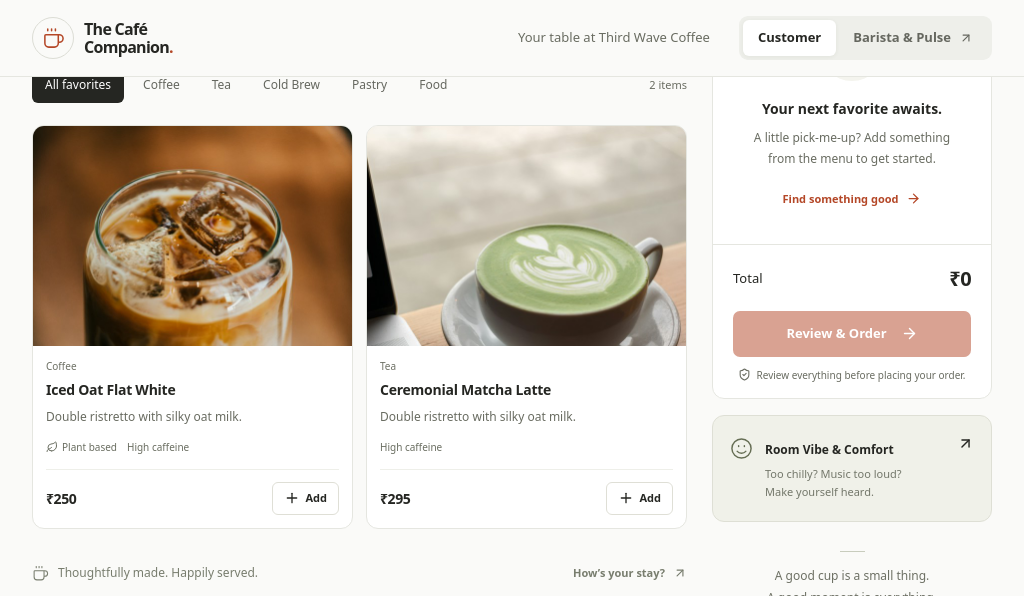
Test: Guest ordering › places a rupee order with table and allergies after explicit review
(page scrolled)
Check: the button "Iced Oat Flat White" is shown, box top-left (46, 380), bottom-right (339, 400)
Click the button "Add" in the row of "₹250" at (306, 498), box top-left (272, 482), bottom-right (339, 515)
(page scrolled)
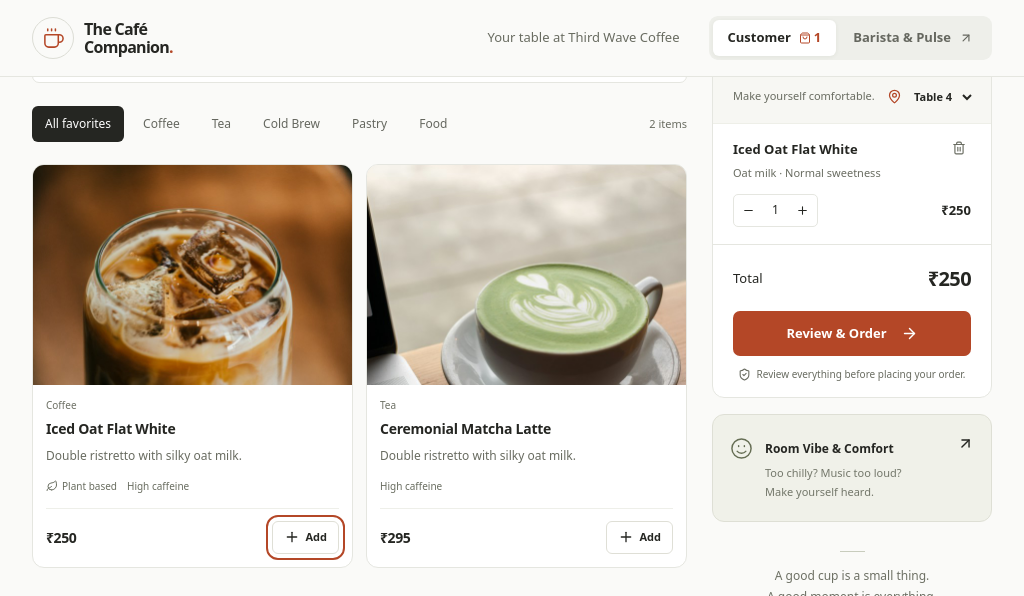
Click the button "Review & Order" at (852, 333), box top-left (733, 310), bottom-right (971, 356)
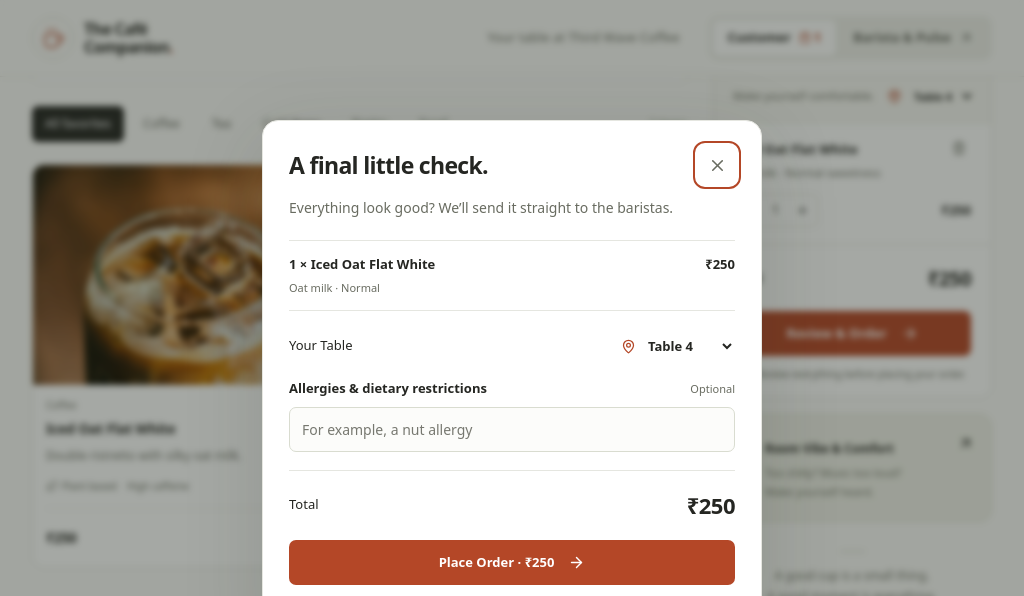
Select "Table 7" in the dropdown named "Your Table" at (688, 346), box top-left (641, 331), bottom-right (735, 361)
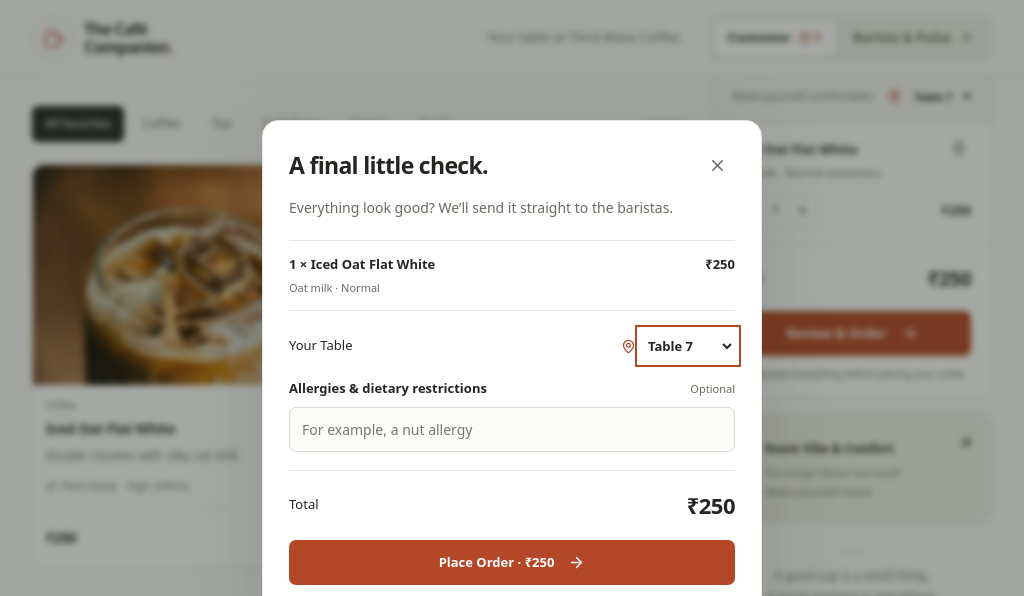
Type "Peanuts" into the field labelled "Allergies & dietary restrictions Optional" at (512, 429), box top-left (289, 407), bottom-right (735, 452)
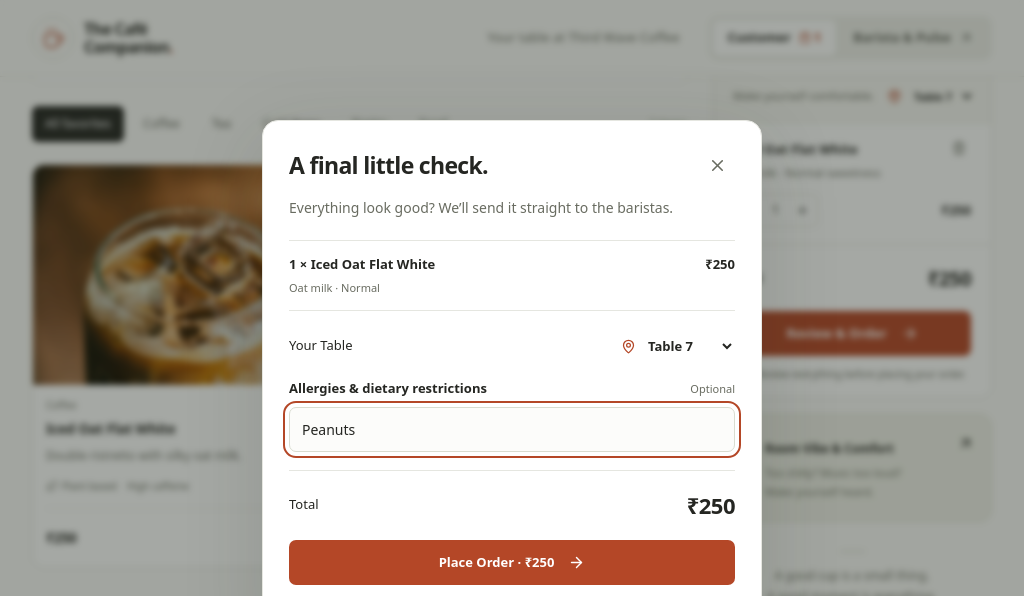
Click the button "Place Order · ₹250" at (512, 562), box top-left (289, 540), bottom-right (735, 585)
(page scrolled)
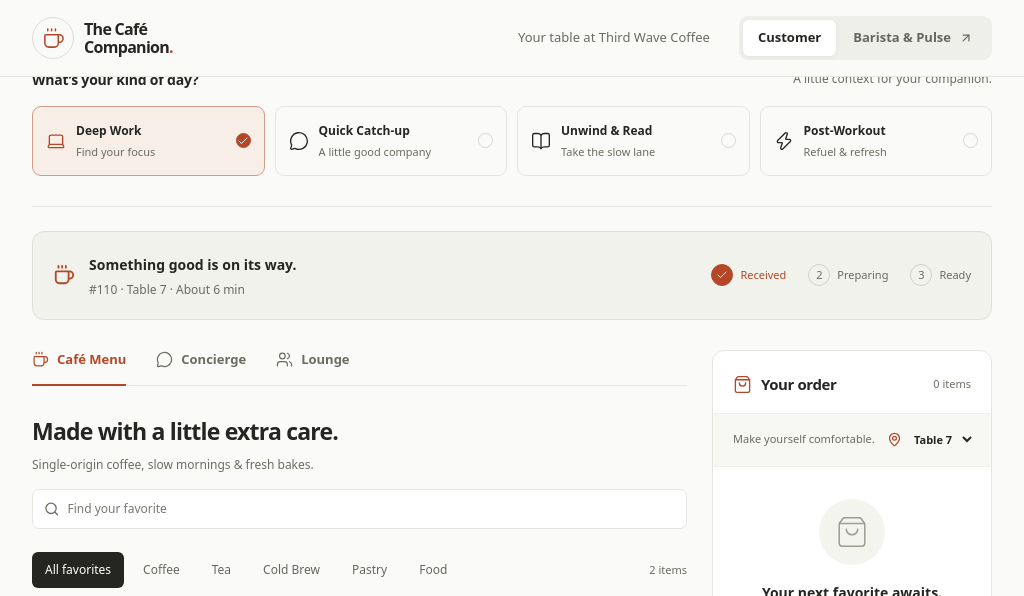
Check: the text "Something good is on its way." is shown, box top-left (89, 255), bottom-right (296, 274)
Check: the text "0 items" is shown, box top-left (933, 376), bottom-right (971, 392)
